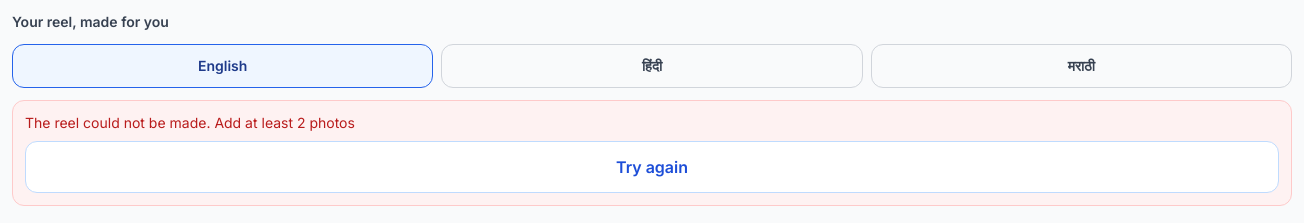
failed: shows the message and Try again asks for a fresh job
expect the message with test id "reel-failed" shows "The reel could not be made. Add at least 2 photos": met, box top-left (12, 100), bottom-right (1292, 206)
Click the button "Try again": (652, 167) top-left (25, 141), bottom-right (1279, 193)
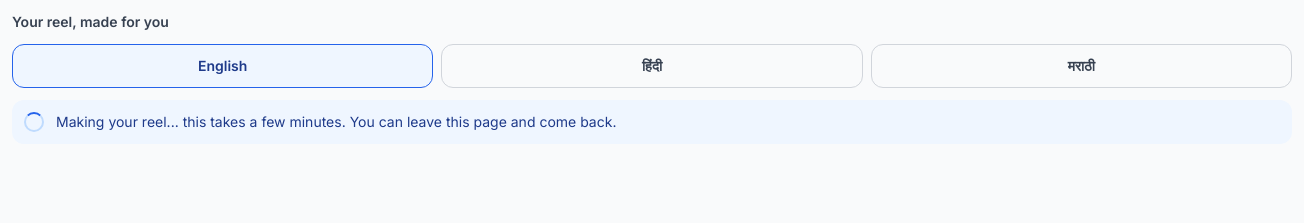
expect the message with test id "reel-progress" is shown: met, box top-left (12, 100), bottom-right (1292, 144)
